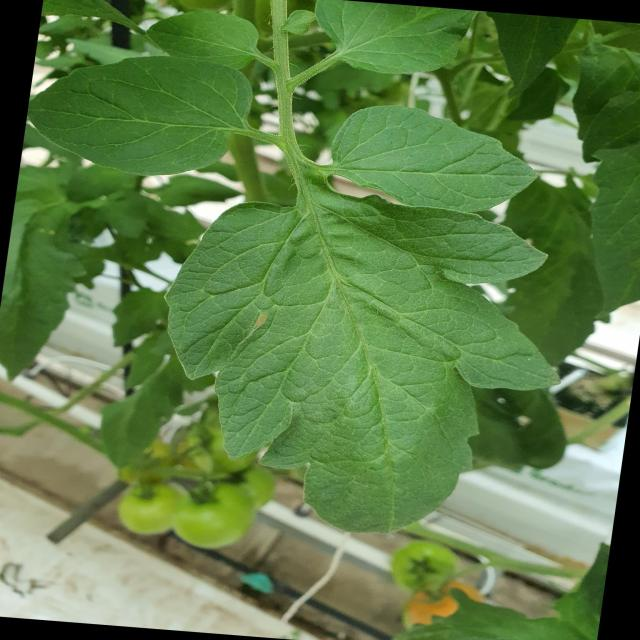Healthy Leaf: (168, 157, 565, 553), (338, 82, 594, 238), (1, 58, 300, 172), (147, 10, 308, 87)
